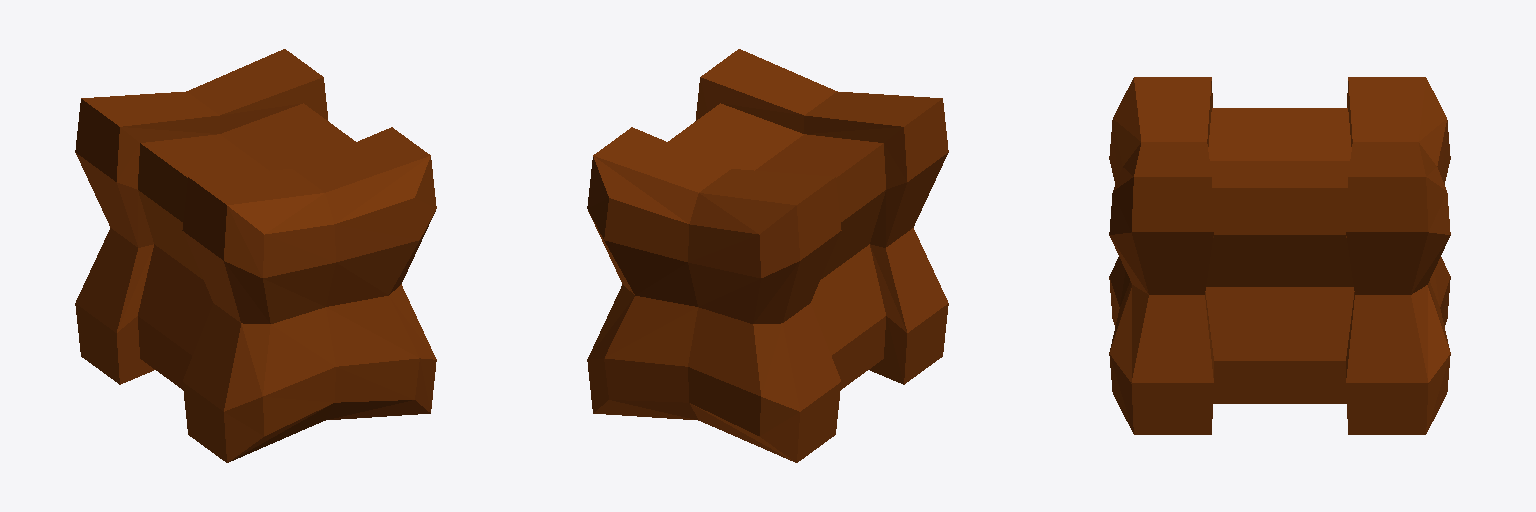
Rendered from ChaosOrb.obj.
3 renders of one model, left to right at view 1: azimuth 30°, elevation 25°; view 2: azimuth 150°, elevation 25°; view 3: azimuth 270°, elevation 25°, orthographic.
Parts seen in each view (by area): view 1: Chaos_Orb; view 2: Chaos_Orb; view 3: Chaos_Orb.
Boxes of the visible parts, <box> form: Chaos_Orb: <box>75,49,436,462</box>; Chaos_Orb: <box>587,49,948,462</box>; Chaos_Orb: <box>1109,77,1450,434</box>.
Size of the model in its own units: 2.61 by 3.02 by 3.62.